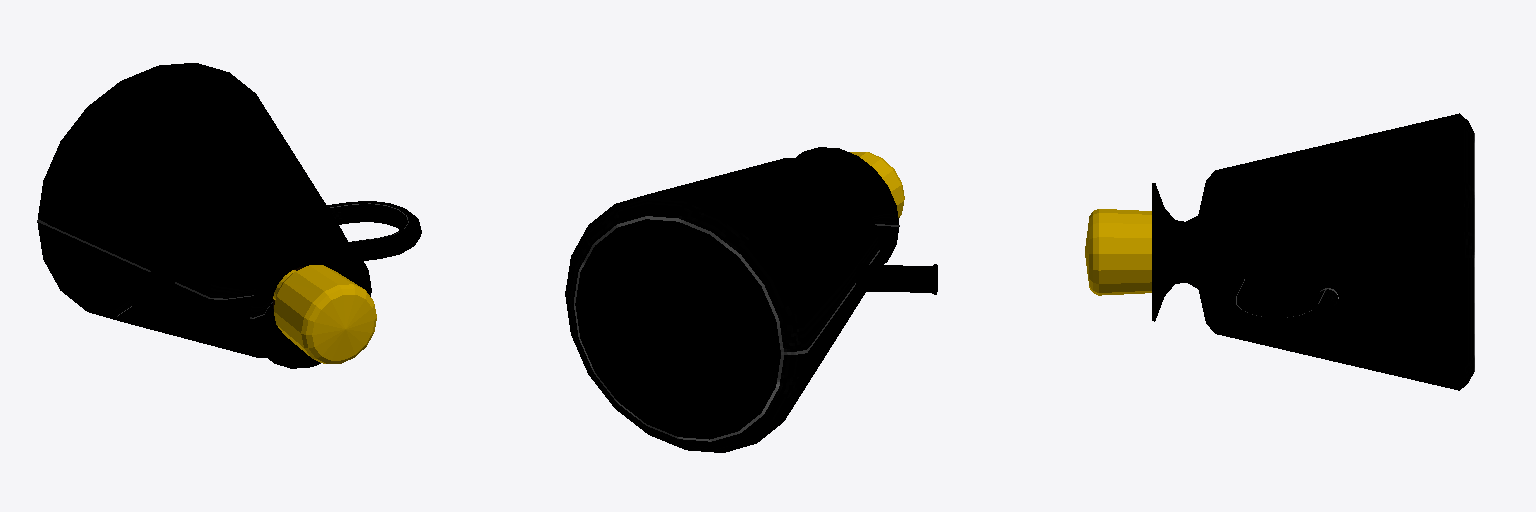
3 views of the same model, side by side, from view 1: azimuth 30°, elevation 25°; view 2: azimuth 150°, elevation 25°; view 3: azimuth 270°, elevation 25° (orthographic).
Parts seen in each view (by area): view 1: soy_full_Untitled.001; view 2: soy_full_Untitled.001; view 3: soy_full_Untitled.001.
Part boxes in pixels (x1,y1,x2,y2): soy_full_Untitled.001: (37,63,421,368); soy_full_Untitled.001: (565,147,937,452); soy_full_Untitled.001: (1085,113,1474,390).
Size of the model in its own units: 0.1286 by 0.0993 by 0.1388.
3 materials, 1 textured.